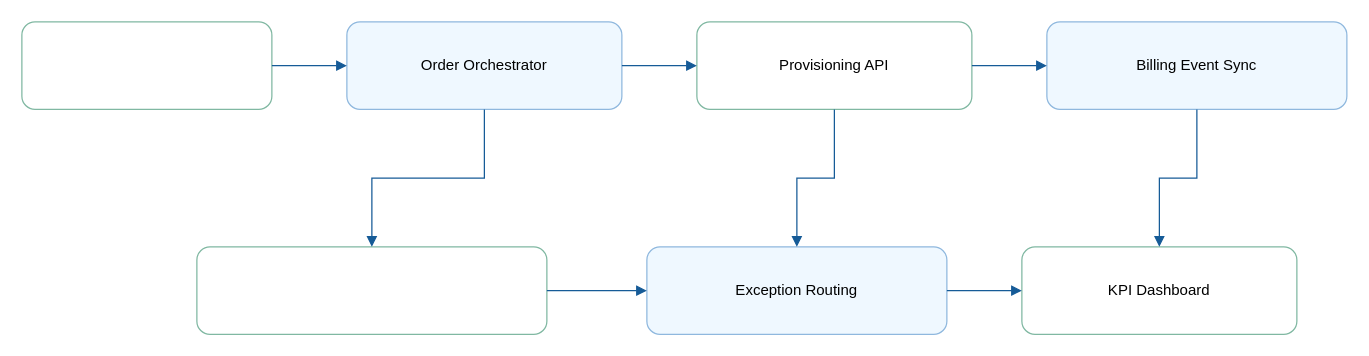
Image size: 1369x356. Some labels were removed from this diagram. The centre of each missing label's shape, as x and y in pixels:
"Live Status Timeline" belongs at point 371,290.
"Unified Intake" belongs at point 146,65.
